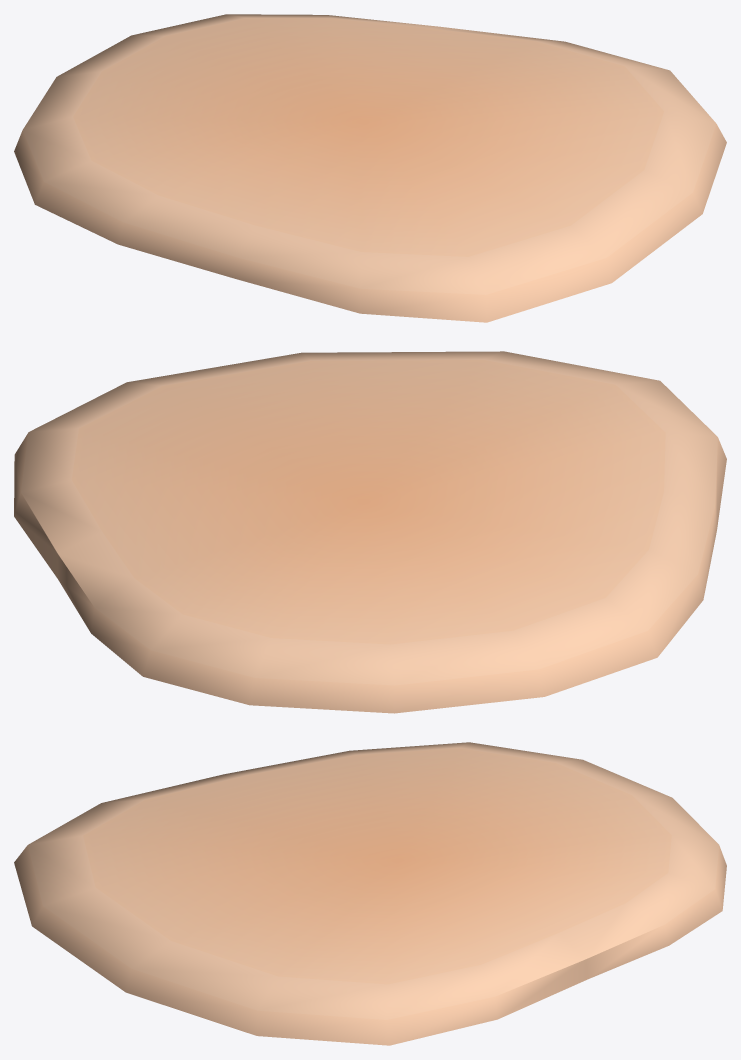
File: dough-rolled-b.glb
3 views of the same model, one above another, from view 1: azimuth 30°, elevation 25°; view 2: azimuth 150°, elevation 25°; view 3: azimuth 270°, elevation 25° (orthographic). The views are drawn at different scales.
Parts seen in each view (by area): view 1: dough_rolled_B; view 2: dough_rolled_B; view 3: dough_rolled_B.
Boxes of the visible parts, <box> form: dough_rolled_B: <box>14,14,726,322</box>; dough_rolled_B: <box>14,351,726,713</box>; dough_rolled_B: <box>14,742,726,1045</box>.
Size of the model in its own units: 0.8363 by 0.05 by 0.8782.
Materials: 1 (1 with a texture image).
